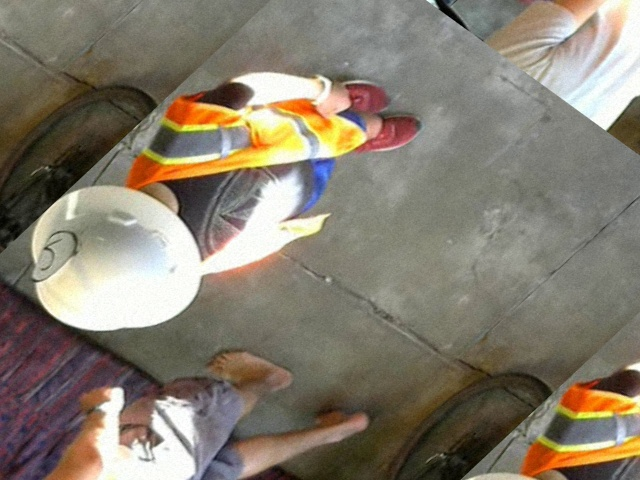two: (14, 225, 88, 286)
